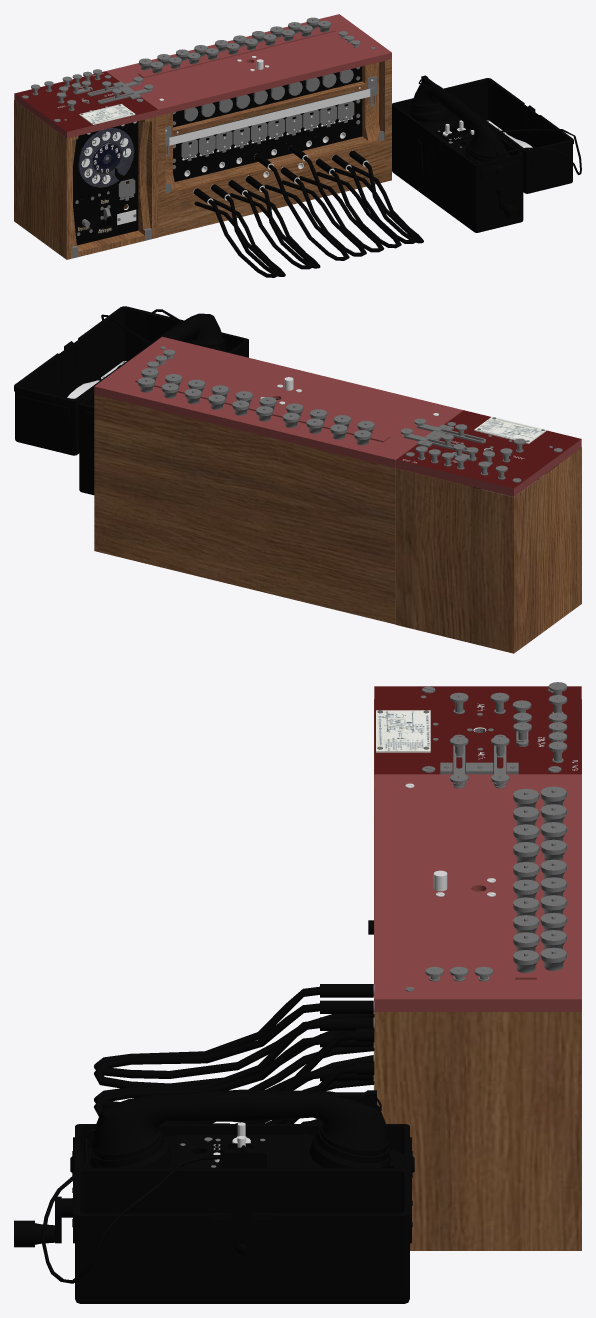
Rendered from Telephone.fbx.
3 views of the same model, one above another, from view 1: azimuth 30°, elevation 25°; view 2: azimuth 150°, elevation 25°; view 3: azimuth 270°, elevation 25° (orthographic). The views are drawn at different scales.
Parts seen in each view (by area): view 1: polySurface90, pCube1, polySurface26, polySurface21, polySurface38, polySurface27, pCylinder38, polySurface40, polySurface7, polySurface39; view 2: polySurface90, pCube1, polySurface21, polySurface38, polySurface26, polySurface27, polySurface39; view 3: polySurface90, polySurface21, polySurface38, polySurface27, polySurface26, polySurface7.
Boxes of the visible parts, x1,y1,x2,y2 form: polySurface90: (106,14,423,277); pCube1: (14,100,158,259); polySurface26: (392,98,523,232); polySurface21: (444,78,573,193); polySurface38: (14,69,158,138); polySurface27: (409,75,581,174); pCylinder38: (78,127,134,187); polySurface40: (75,121,136,235); polySurface7: (496,186,521,221); polySurface39: (87,81,150,103); polySurface90: (94,336,463,624); pCube1: (396,447,581,653); polySurface21: (14,306,183,455); polySurface38: (396,410,581,496); polySurface26: (79,332,248,495); polySurface27: (101,309,226,370); polySurface39: (404,424,485,453); polySurface90: (94,773,581,1250); polySurface21: (72,1168,412,1298); polySurface38: (374,682,581,774); polySurface27: (41,1089,390,1283); polySurface26: (70,1122,414,1303); polySurface7: (14,1196,72,1247).
Bounding box in the file's own units: 34.6 × 10.51 × 19.56.
